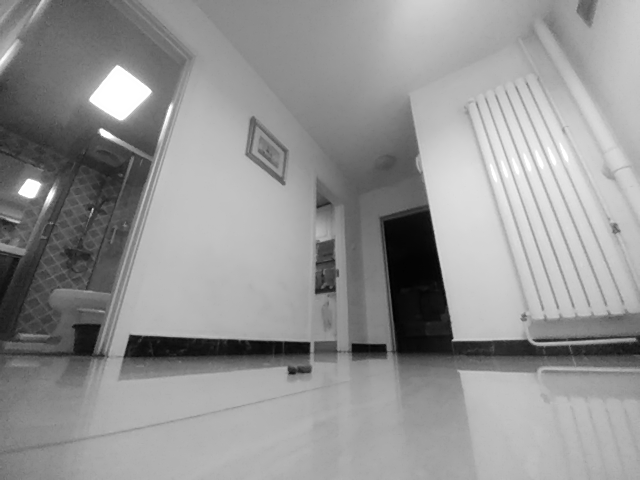pet feces: (287, 363, 312, 376)
